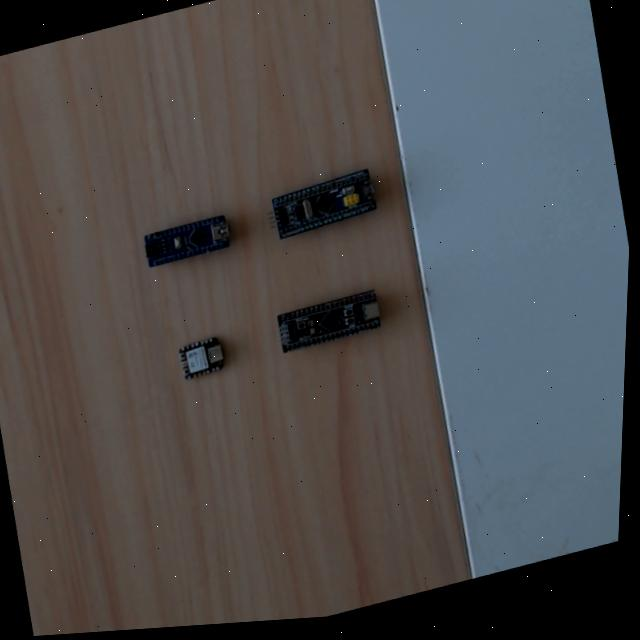Arduino-Nano: (136, 212, 234, 270)
ESP32C3-Xiao: (172, 333, 230, 385)
STM32-Blackpill: (269, 287, 384, 356)
STM32-Bluepill: (263, 166, 380, 244)
